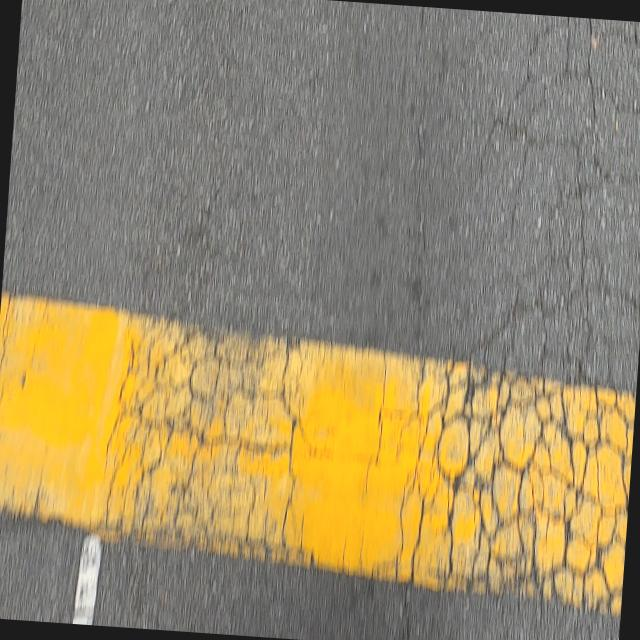Retak-Buaya: (403, 17, 640, 622), (101, 312, 303, 561)
